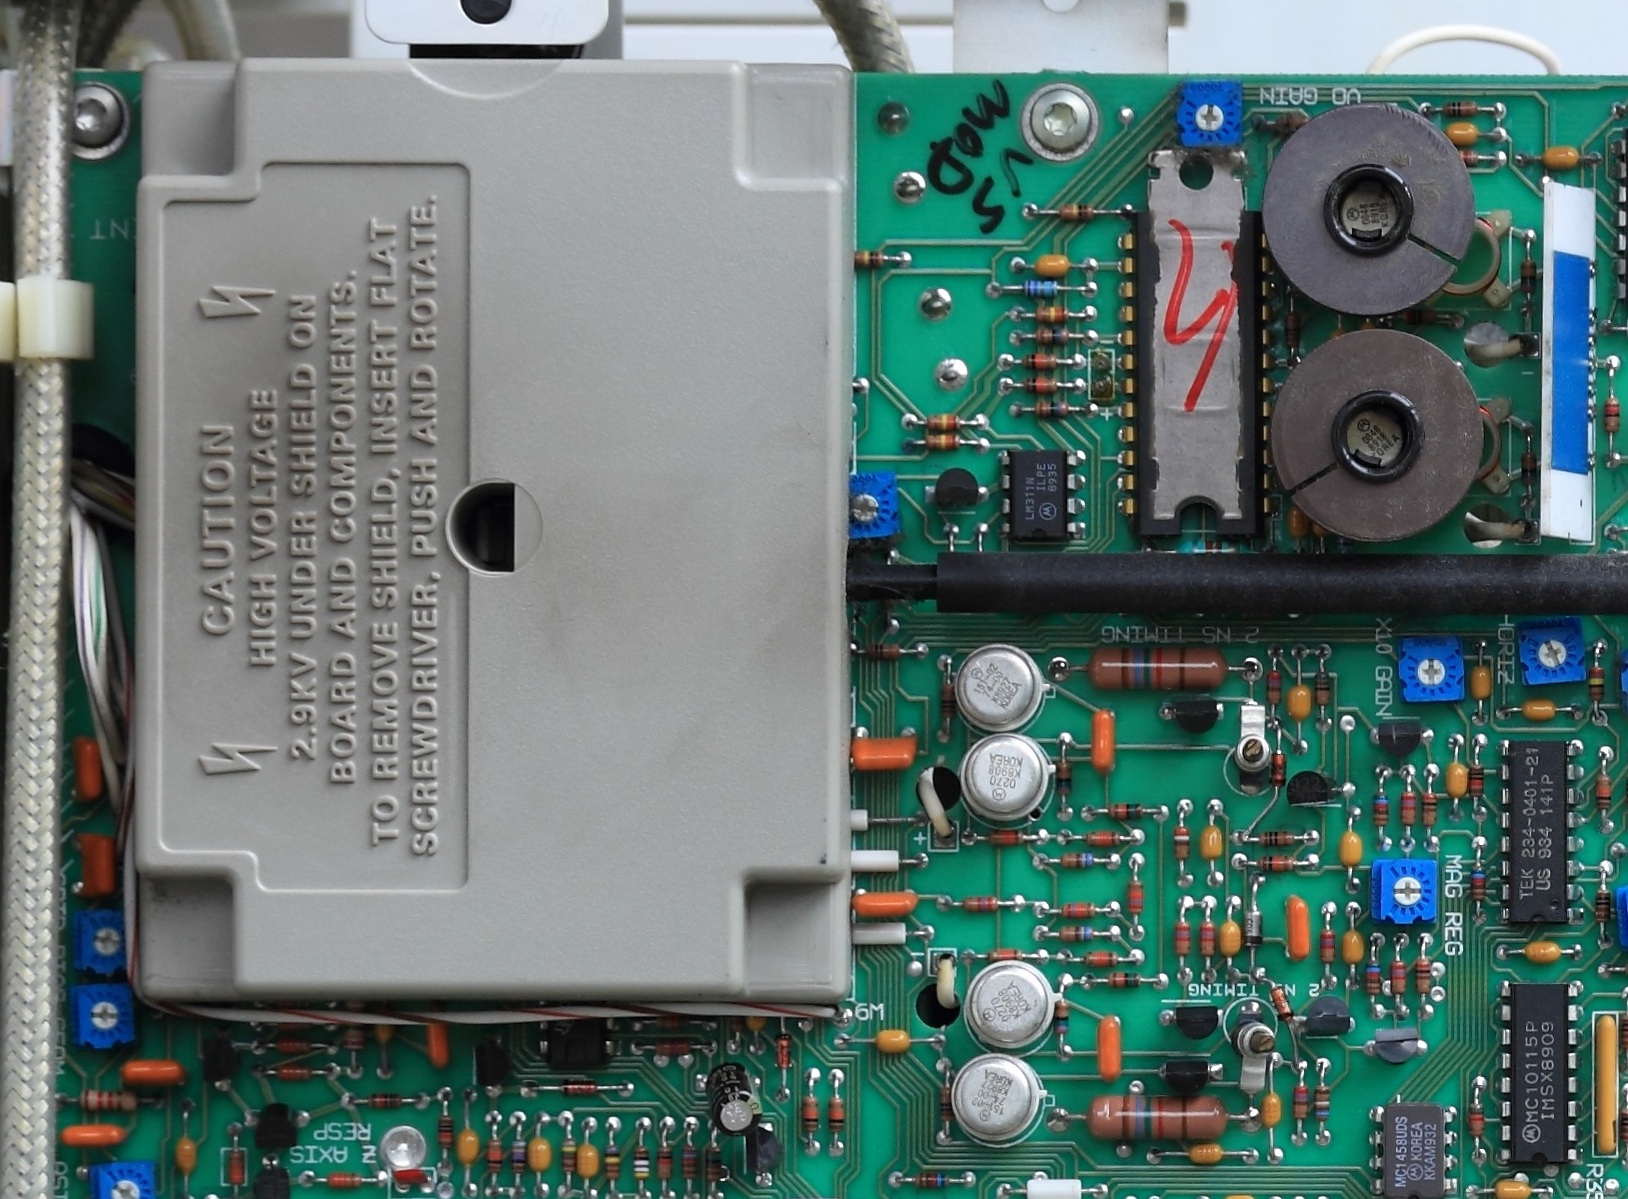Capacitor: (702, 1056, 766, 1141)
Diode: (1265, 979, 1299, 1028), (1239, 906, 1270, 953), (1267, 743, 1292, 797), (772, 1028, 799, 1074), (554, 1076, 605, 1099)
Resistor: (1076, 1093, 1234, 1146), (1079, 646, 1232, 694), (75, 1087, 143, 1116), (339, 998, 368, 1054), (798, 1088, 823, 1138), (824, 1092, 849, 1142), (1584, 660, 1609, 710), (1601, 389, 1625, 442), (1028, 303, 1077, 328), (1016, 373, 1068, 397), (1053, 200, 1100, 226), (1361, 956, 1387, 1004), (647, 1035, 700, 1057), (1418, 785, 1441, 835), (1316, 925, 1341, 970), (1097, 798, 1154, 819), (1393, 304, 1446, 326), (434, 1111, 458, 1157), (600, 1140, 624, 1186), (909, 1167, 956, 1191), (1464, 757, 1488, 804), (1124, 874, 1148, 921), (1016, 278, 1068, 299), (268, 1033, 316, 1056), (934, 1082, 957, 1130), (1387, 956, 1409, 1004), (628, 1140, 653, 1183), (1593, 883, 1615, 930), (1369, 788, 1393, 833), (958, 893, 1007, 915), (1078, 829, 1127, 850), (1253, 854, 1304, 874), (1028, 327, 1079, 347), (1311, 1079, 1333, 1124), (270, 1063, 319, 1084), (653, 1140, 677, 1183), (1309, 667, 1333, 710), (1170, 821, 1194, 864), (1028, 399, 1076, 421), (1291, 1079, 1311, 1130), (981, 828, 1031, 848), (677, 1140, 700, 1184), (1397, 788, 1419, 833), (1055, 924, 1100, 946), (1263, 665, 1284, 711), (1079, 948, 1126, 969), (224, 1146, 248, 1188), (849, 246, 891, 270), (484, 1133, 506, 1179), (557, 1135, 579, 1180), (703, 1142, 724, 1188), (1057, 900, 1100, 922), (1466, 1095, 1486, 1143), (1101, 970, 1149, 991), (1256, 828, 1297, 852), (1053, 756, 1074, 800), (1518, 449, 1540, 493), (1412, 954, 1435, 996), (1447, 147, 1489, 169), (1198, 916, 1218, 963), (861, 641, 908, 661), (1053, 850, 1100, 871), (1518, 253, 1538, 299), (1593, 769, 1613, 815), (920, 433, 968, 452), (321, 1170, 365, 1190), (921, 413, 968, 432), (650, 1015, 699, 1032), (1174, 920, 1194, 963), (1282, 307, 1302, 350), (364, 1092, 406, 1112), (1020, 352, 1063, 371), (1438, 99, 1481, 117), (1054, 996, 1071, 1042), (940, 676, 957, 723), (512, 1131, 527, 1179), (982, 948, 1026, 963)
